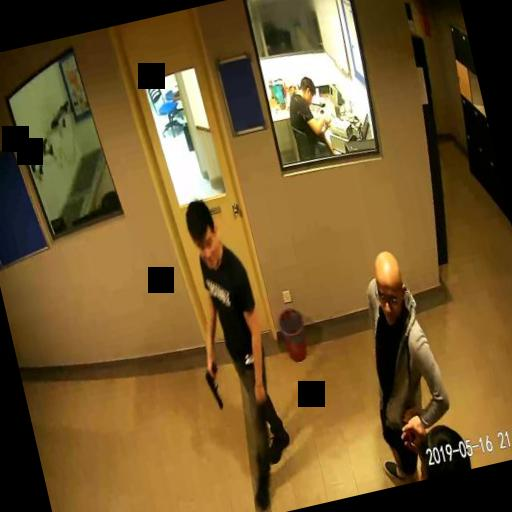Handgun: (202, 362, 225, 410)
